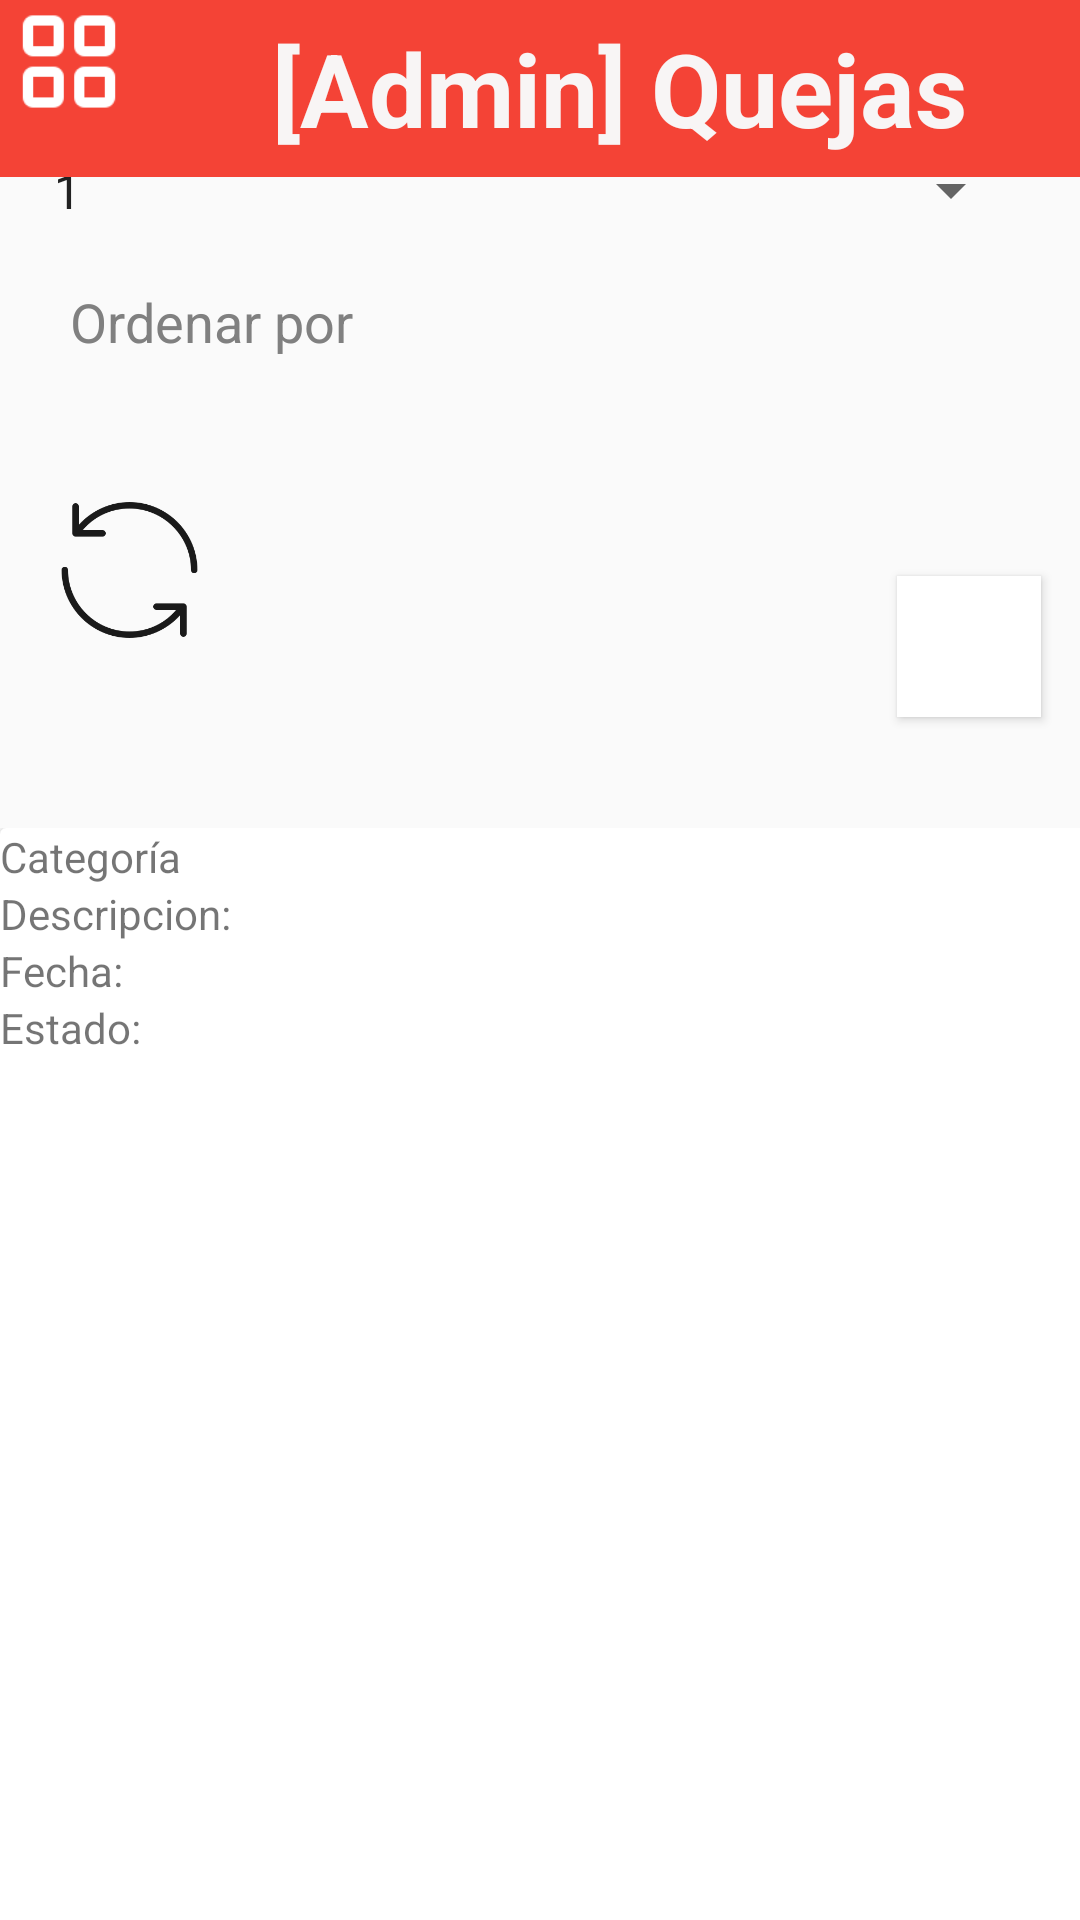

Where icons sit on this 1080 × 1920 app screen, as (x1, y1, x2, y2):
actualizar: (61, 502, 198, 638)
